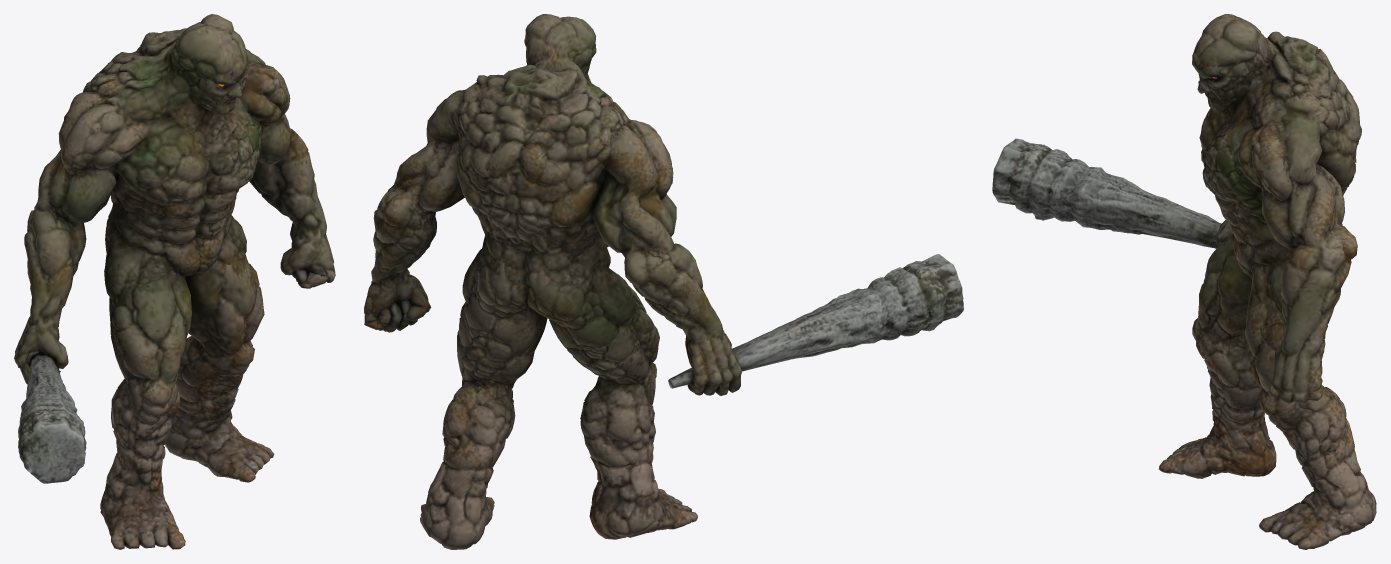
The model's file is MZ4250 - Earth Titan.glb.
3 views of the same model, side by side, from view 1: azimuth 30°, elevation 25°; view 2: azimuth 150°, elevation 25°; view 3: azimuth 270°, elevation 25° (orthographic).
Visible parts, largest first — view 1: Cylinder.001; view 2: Cylinder.001; view 3: Cylinder.001.
Boxes of the visible parts, bbox=[...] form: Cylinder.001: bbox=[14, 14, 335, 549]; Cylinder.001: bbox=[364, 14, 963, 549]; Cylinder.001: bbox=[992, 14, 1376, 549].
Bounding box in the file's own units: 486 × 510 × 364.
Materials: 1 (1 with a texture image).
